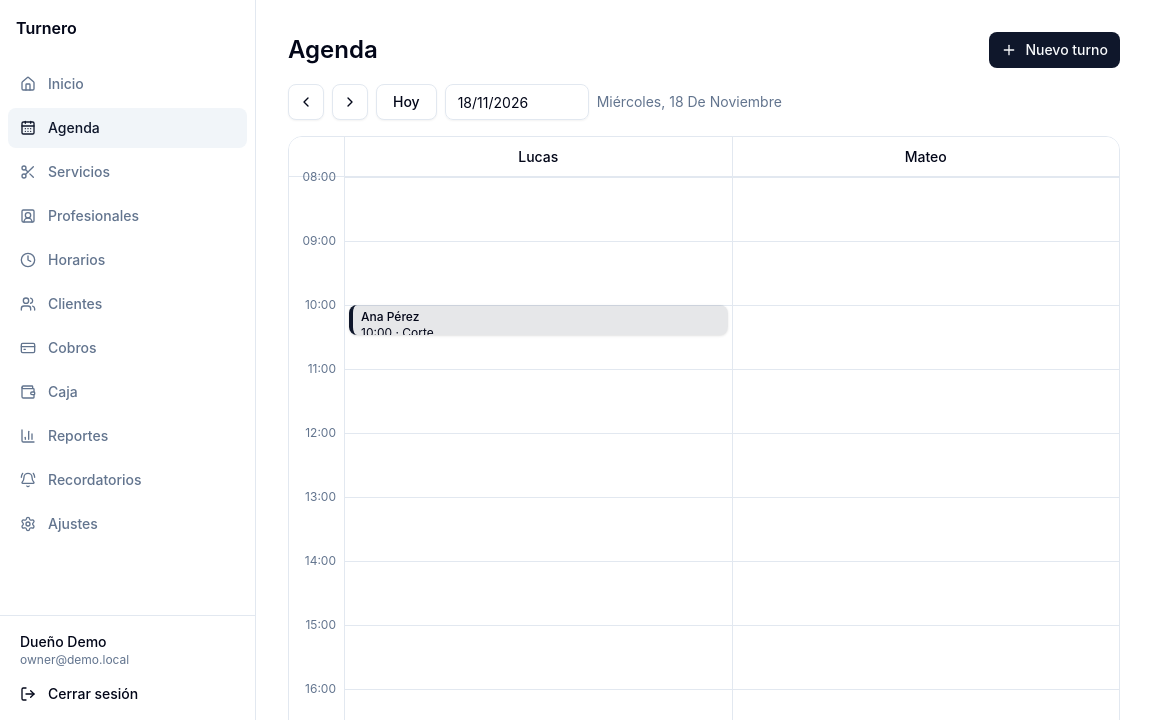
agenda page › shows and accepts dates as dd/mm/aaaa
Replace the text in the field named "Fecha" with "19/11/2026" at point(517, 102), box [445, 84, 589, 120]
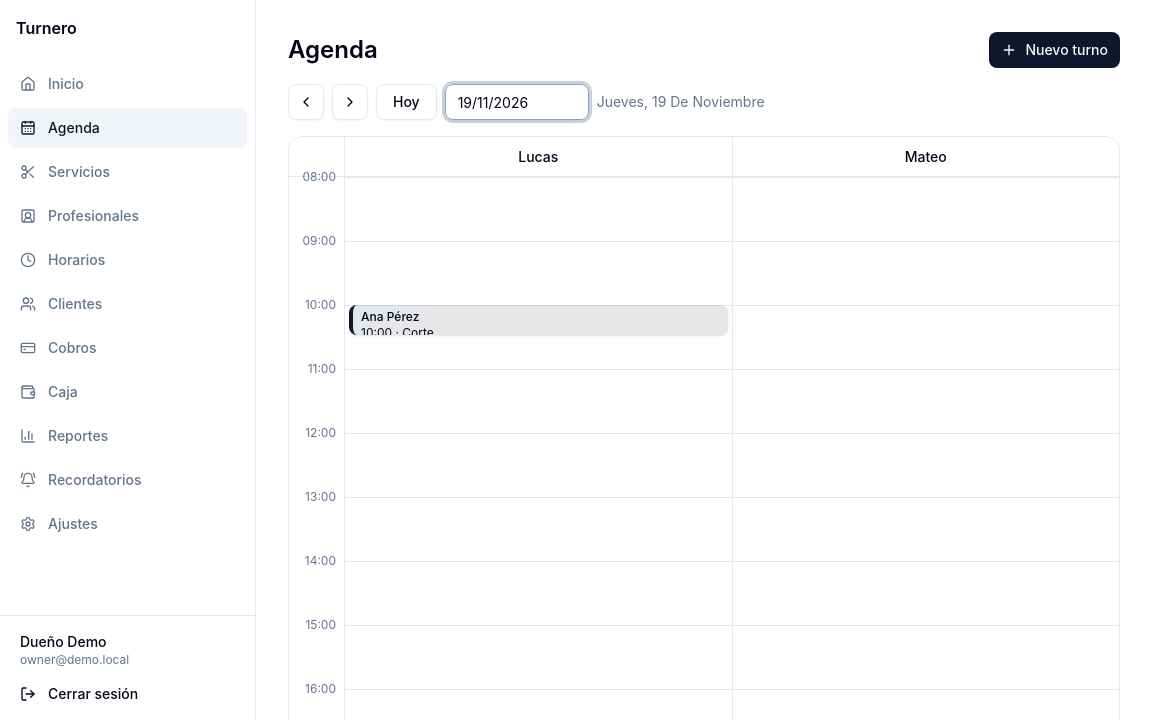
Check: the text "jueves" is shown, box [597, 93, 765, 110]
